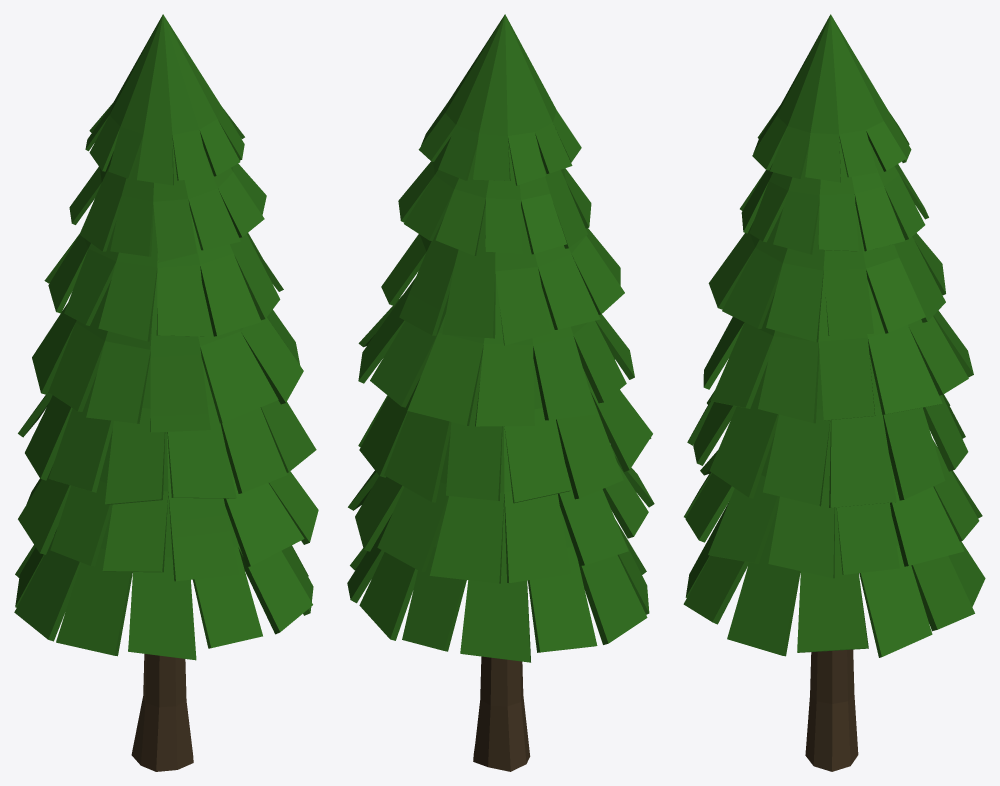
Rendered from tree-11.glb.
3 renders of one model, left to right at view 1: azimuth 30°, elevation 25°; view 2: azimuth 150°, elevation 25°; view 3: azimuth 270°, elevation 25°, orthographic.
Visible parts, largest first — view 1: Tree3_1.001; view 2: Tree3_1.001; view 3: Tree3_1.001.
Boxes of the visible parts, x1,y1,x2,y2 form: Tree3_1.001: (14, 14, 318, 771); Tree3_1.001: (347, 14, 654, 771); Tree3_1.001: (683, 14, 985, 771).
Size of the model in its own units: 3.83 by 10.32 by 3.8.
